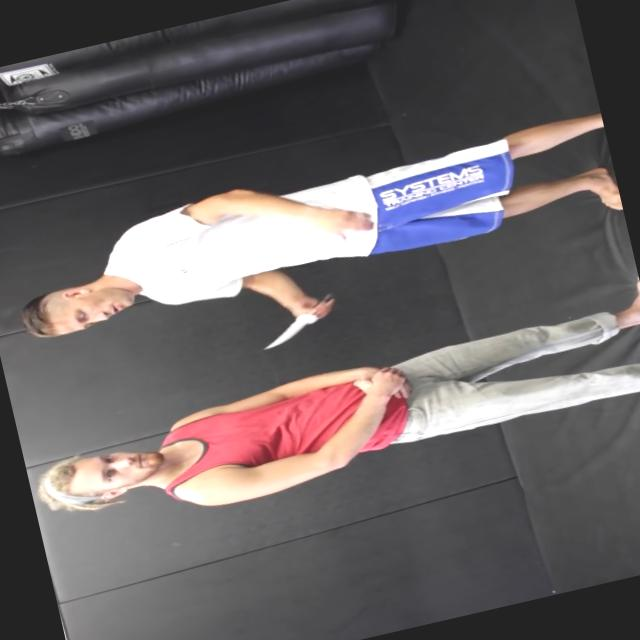knife: (242, 287, 348, 356)
